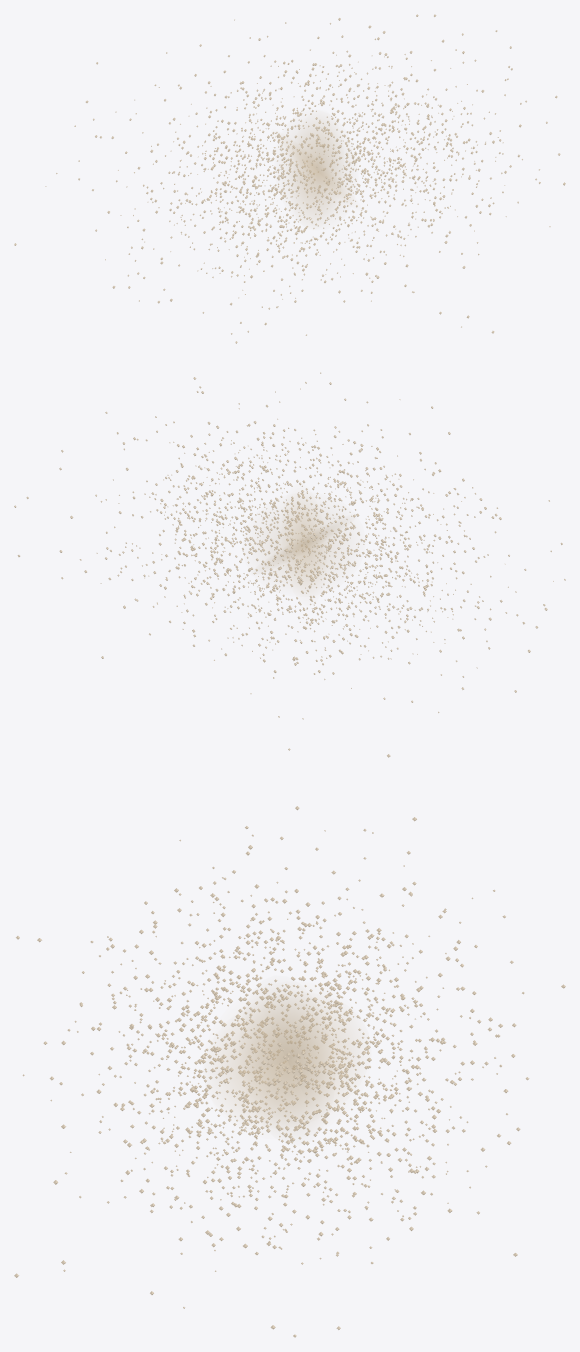
3 views of the same model, one above another, from view 1: azimuth 30°, elevation 25°; view 2: azimuth 150°, elevation 25°; view 3: azimuth 270°, elevation 25° (orthographic). The views are drawn at different scales.
Bounding box in the file's own units: 8.17 × 4.19 × 5.3.
